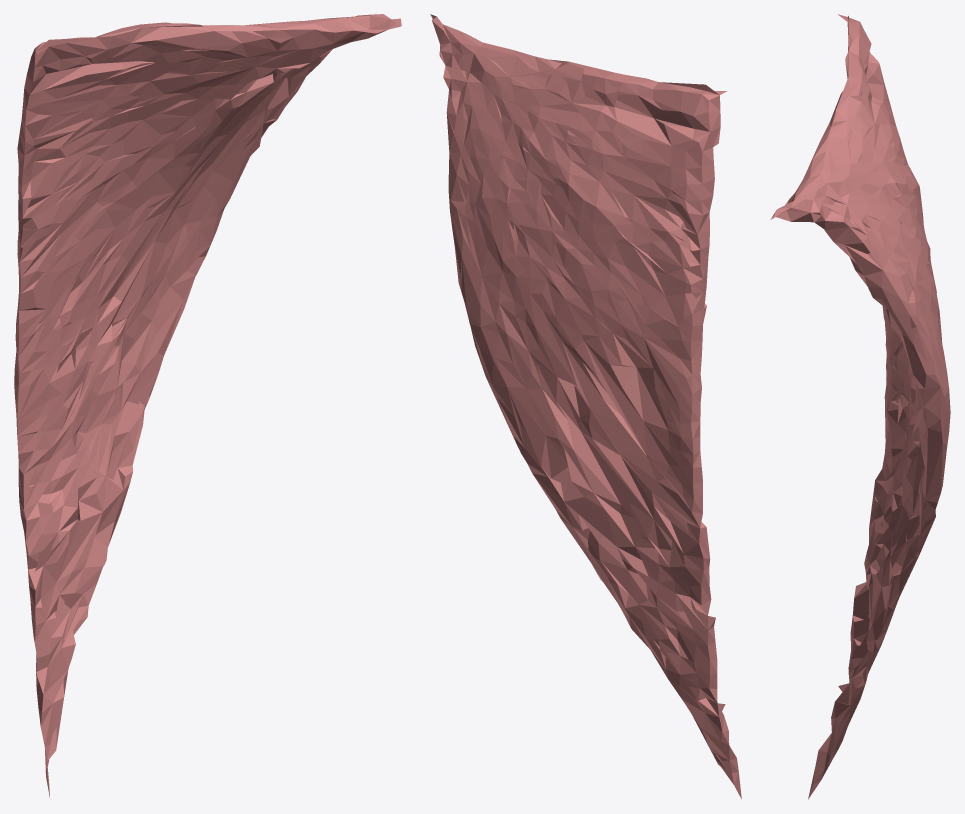
Rendered from Descending_part_of_trapezius_muscle.l.glb.
3 renders of one model, left to right at view 1: azimuth 30°, elevation 25°; view 2: azimuth 150°, elevation 25°; view 3: azimuth 270°, elevation 25°, orthographic. The views are drawn at different scales.
Visible parts, largest first — view 1: Descending_part_of_trapezius_muscle.l; view 2: Descending_part_of_trapezius_muscle.l; view 3: Descending_part_of_trapezius_muscle.l.
Part boxes in pixels (x1,y1,x2,y2): Descending_part_of_trapezius_muscle.l: (14,14,401,797); Descending_part_of_trapezius_muscle.l: (430,14,741,799); Descending_part_of_trapezius_muscle.l: (770,14,950,799).
Size of the model in its own units: 0.1377 by 0.2911 by 0.0599.
